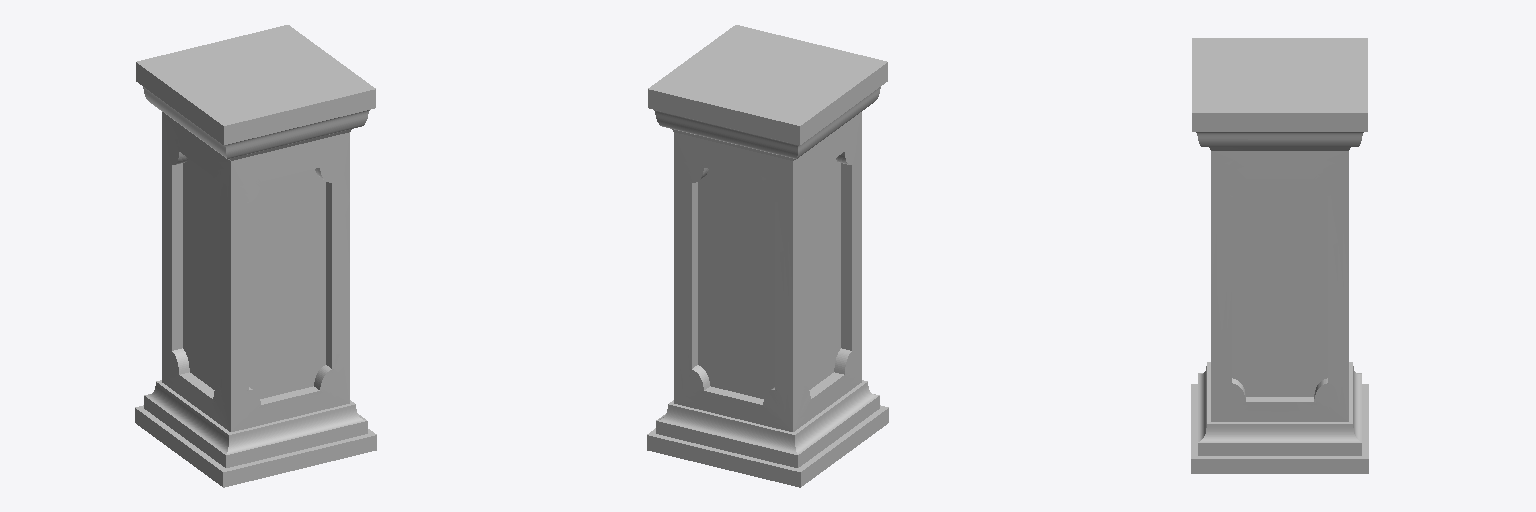
Rendered from pedestal.obj.
3 views of the same model, side by side, from view 1: azimuth 30°, elevation 25°; view 2: azimuth 150°, elevation 25°; view 3: azimuth 270°, elevation 25° (orthographic).
Parts seen in each view (by area): view 1: 10421_square_pedastal_iterations-2; view 2: 10421_square_pedastal_iterations-2; view 3: 10421_square_pedastal_iterations-2.
Part boxes in pixels (bbox=[...]): 10421_square_pedastal_iterations-2: bbox=[135, 25, 376, 487]; 10421_square_pedastal_iterations-2: bbox=[647, 25, 888, 487]; 10421_square_pedastal_iterations-2: bbox=[1191, 38, 1368, 473].
Size of the model in its own units: 1.86 by 4.18 by 1.86.